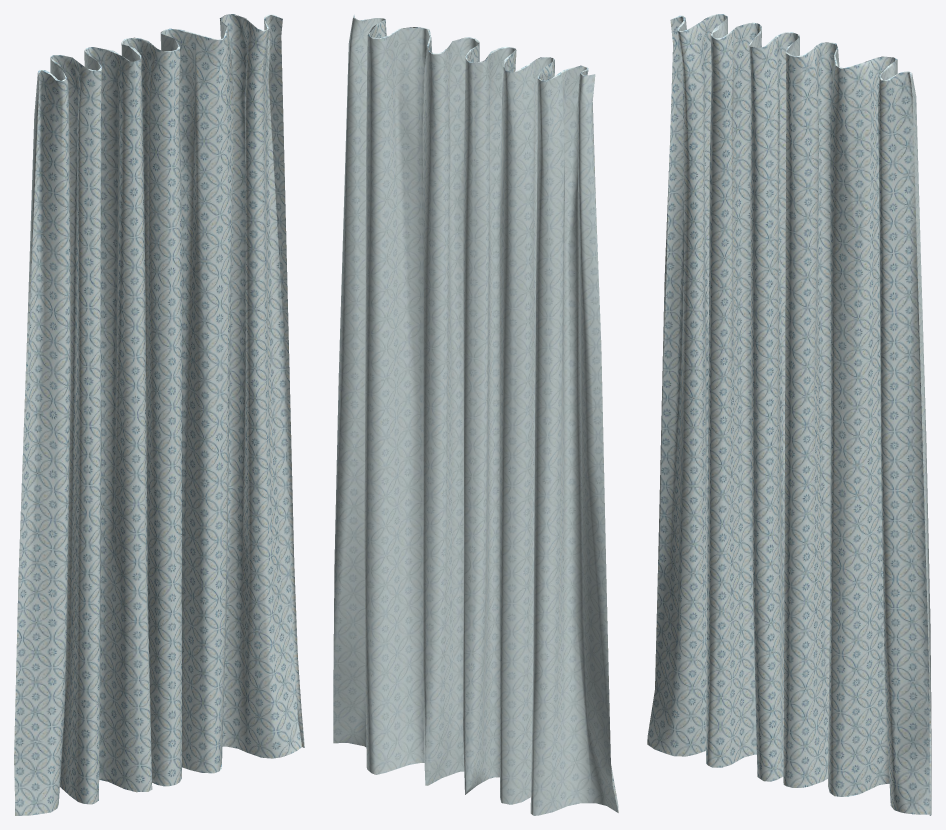
File: dockbat_zasona_prysznicowa_70613685.glb
3 views of the same model, side by side, from view 1: azimuth 30°, elevation 25°; view 2: azimuth 150°, elevation 25°; view 3: azimuth 330°, elevation 25° (orthographic).
Parts seen in each view (by area): view 1: dockbat_zasona_prysznicowa_70613685; view 2: dockbat_zasona_prysznicowa_70613685; view 3: dockbat_zasona_prysznicowa_70613685.
Boxes of the visible parts, x1=… form: dockbat_zasona_prysznicowa_70613685: x1=14, y1=14, x2=304, y2=815; dockbat_zasona_prysznicowa_70613685: x1=333, y1=14, x2=618, y2=815; dockbat_zasona_prysznicowa_70613685: x1=647, y1=14, x2=931, y2=815.
Size of the model in its own units: 0.8358 by 2.05 by 0.1632.
1 material, 1 textured.
